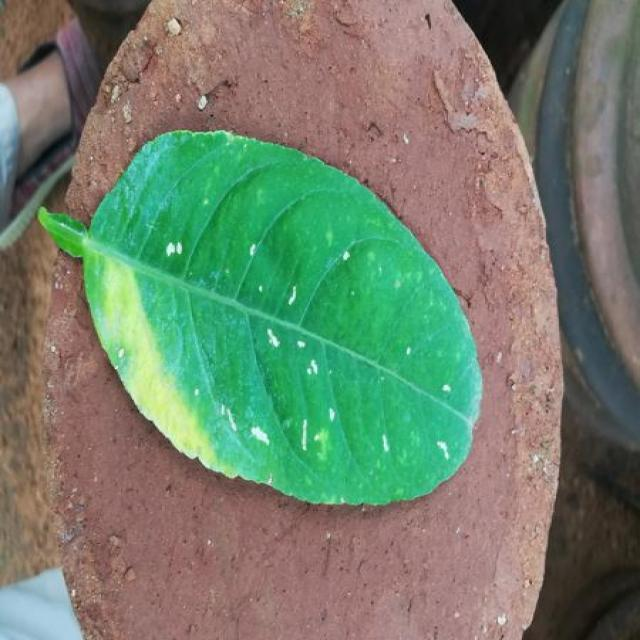badipala: (38, 130, 482, 504)
defectedbadipala: (83, 236, 208, 457)
